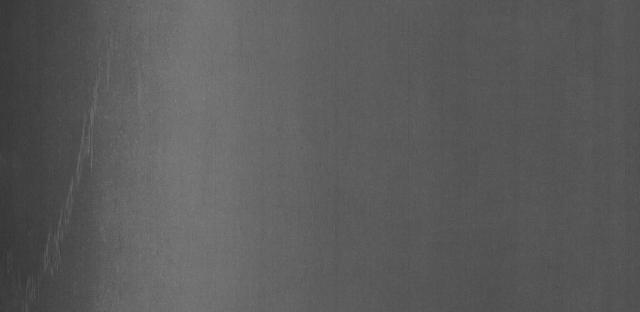silk_spot: (33, 82, 137, 261)
